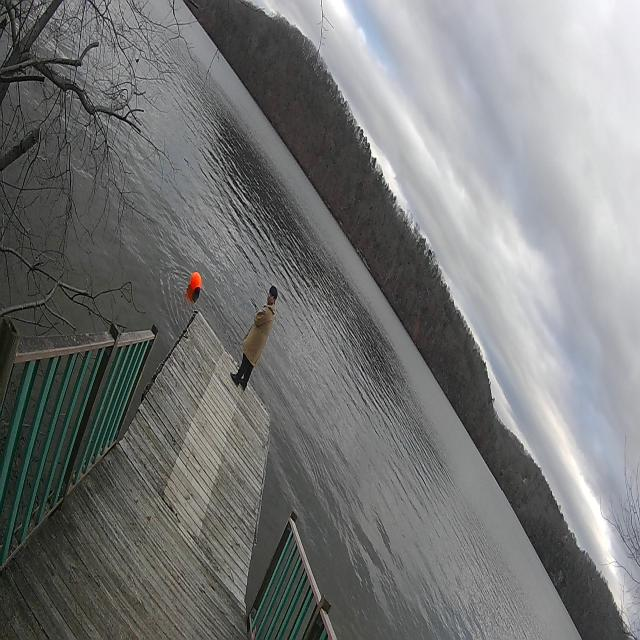Buoy: (187, 266, 205, 304)
